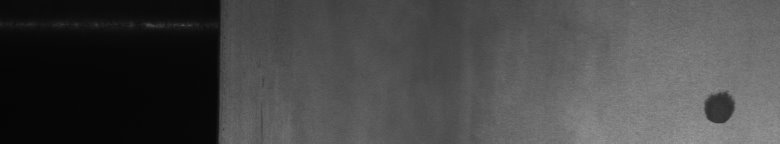fi: (696, 84, 741, 132)
